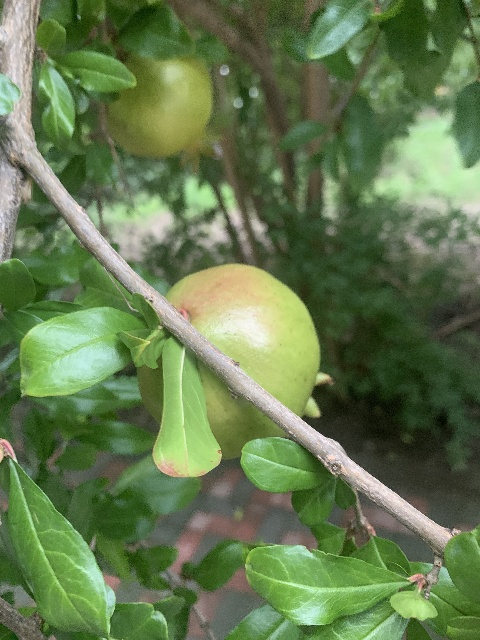mid-growth: (137, 263, 334, 460), (104, 55, 225, 174)
